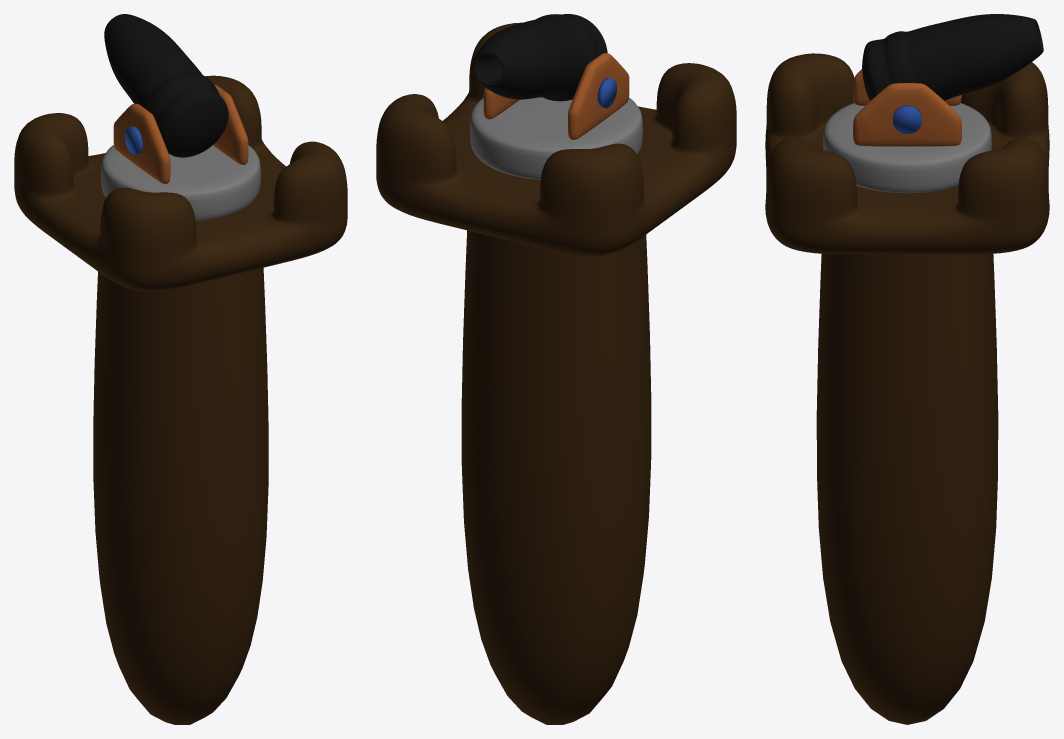
File: tongtongCannon.fbx
3 views of the same model, side by side, from view 1: azimuth 30°, elevation 25°; view 2: azimuth 150°, elevation 25°; view 3: azimuth 270°, elevation 25° (orthographic). The views are drawn at different scales.
Parts seen in each view (by area): view 1: Cube, Circle, Cylinder; view 2: Cube, Circle, Cylinder; view 3: Cube, Circle, Cylinder, Circle.001.
Part boxes in pixels (box(x1,y1,x2,y2)): Cube: box(14, 75, 347, 724); Circle: box(101, 84, 260, 220); Cylinder: box(104, 14, 228, 157); Cube: box(376, 22, 736, 724); Circle: box(470, 53, 642, 179); Cylinder: box(473, 14, 607, 101); Cube: box(765, 53, 1049, 724); Circle: box(823, 69, 991, 193); Cylinder: box(862, 14, 1043, 100); Circle.001: box(892, 105, 922, 133).
Bounding box in the file's own units: 136 × 371 × 136.
